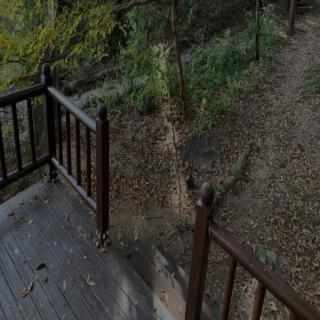Garbage: (184, 171, 195, 189)
